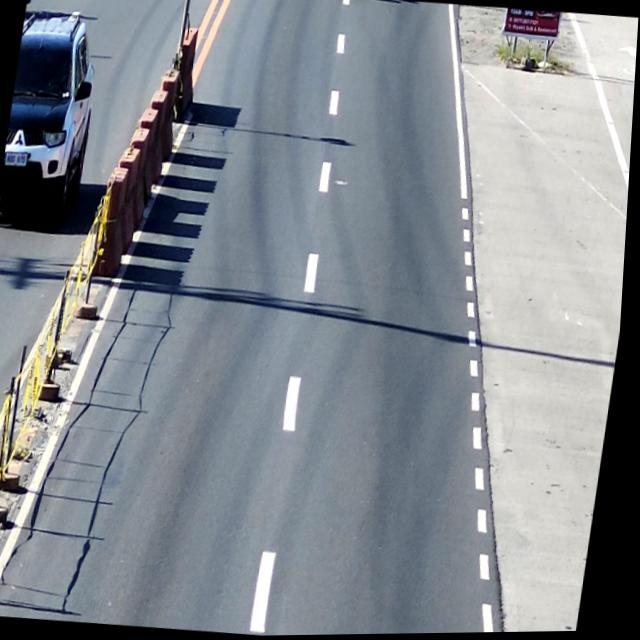Car: (0, 6, 108, 226)
License-Plate: (4, 146, 32, 170)
